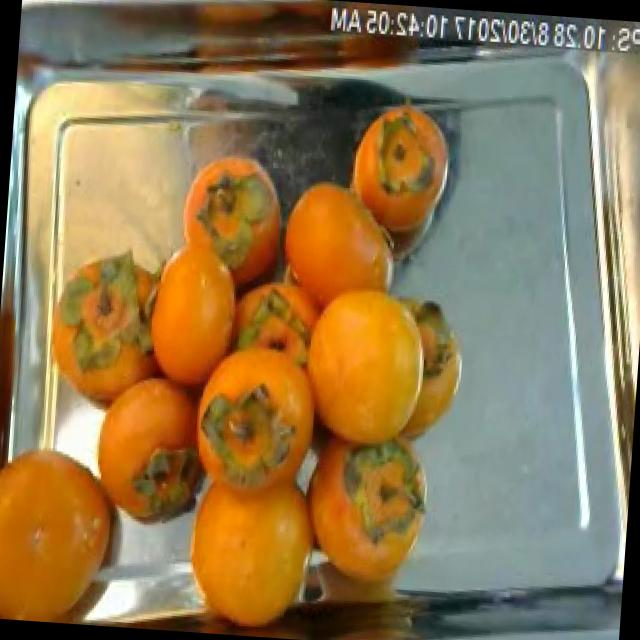Fruit: (272, 158, 411, 336), (336, 98, 467, 245)
